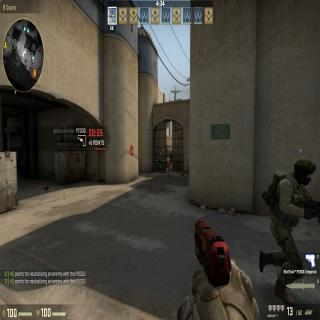CT-Body: (260, 155, 320, 312)
CT-Head: (289, 152, 318, 188)
